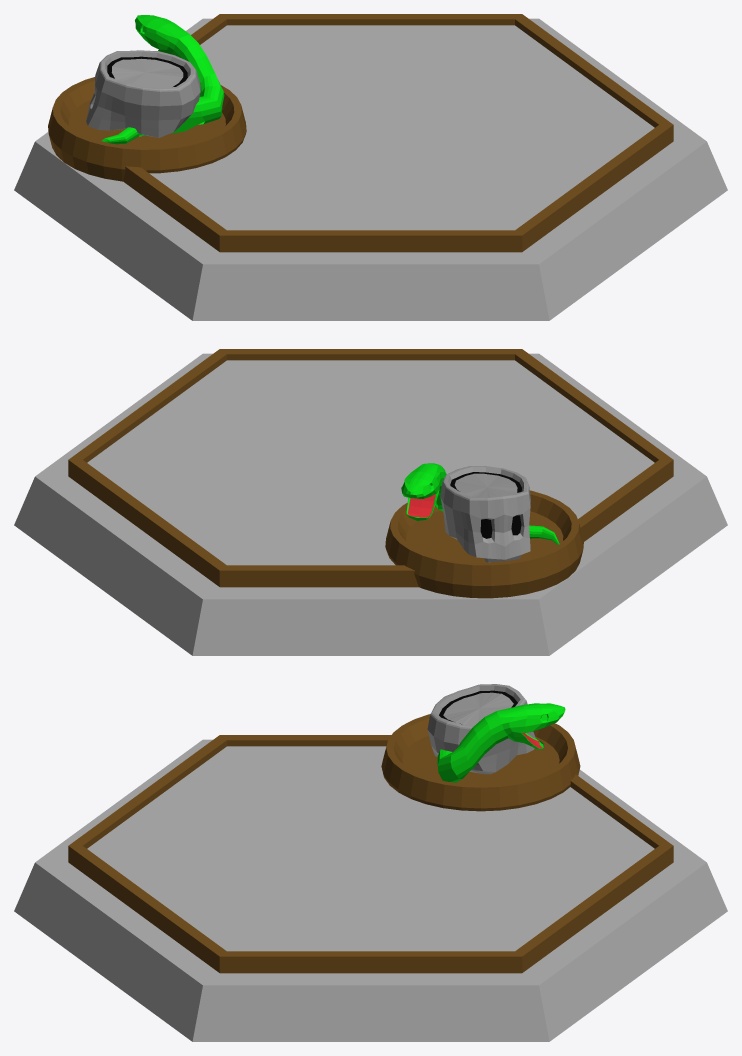
Rendered from songsang board.fbx.
3 renders of one model, top to bottom at view 1: azimuth 30°, elevation 25°; view 2: azimuth 150°, elevation 25°; view 3: azimuth 270°, elevation 25°, orthographic.
Visible parts, largest first — view 1: songsang board; view 2: songsang board; view 3: songsang board.
Boxes of the visible parts, bbox=[...] form: songsang board: bbox=[14, 14, 727, 320]; songsang board: bbox=[14, 349, 727, 655]; songsang board: bbox=[14, 684, 727, 1041].
Size of the model in its own units: 315 by 79.28 by 364.
